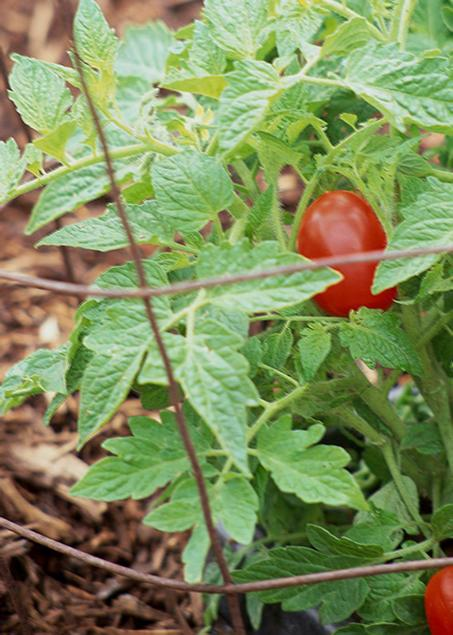Tomato leaf: (71, 297, 188, 452), (158, 311, 265, 467), (231, 530, 393, 618), (243, 419, 364, 519), (64, 410, 190, 504), (340, 48, 453, 139), (22, 143, 129, 237), (374, 164, 453, 291), (204, 249, 336, 314), (149, 143, 227, 237), (332, 304, 427, 378), (198, 0, 285, 63), (8, 55, 73, 134), (61, 0, 114, 86)
